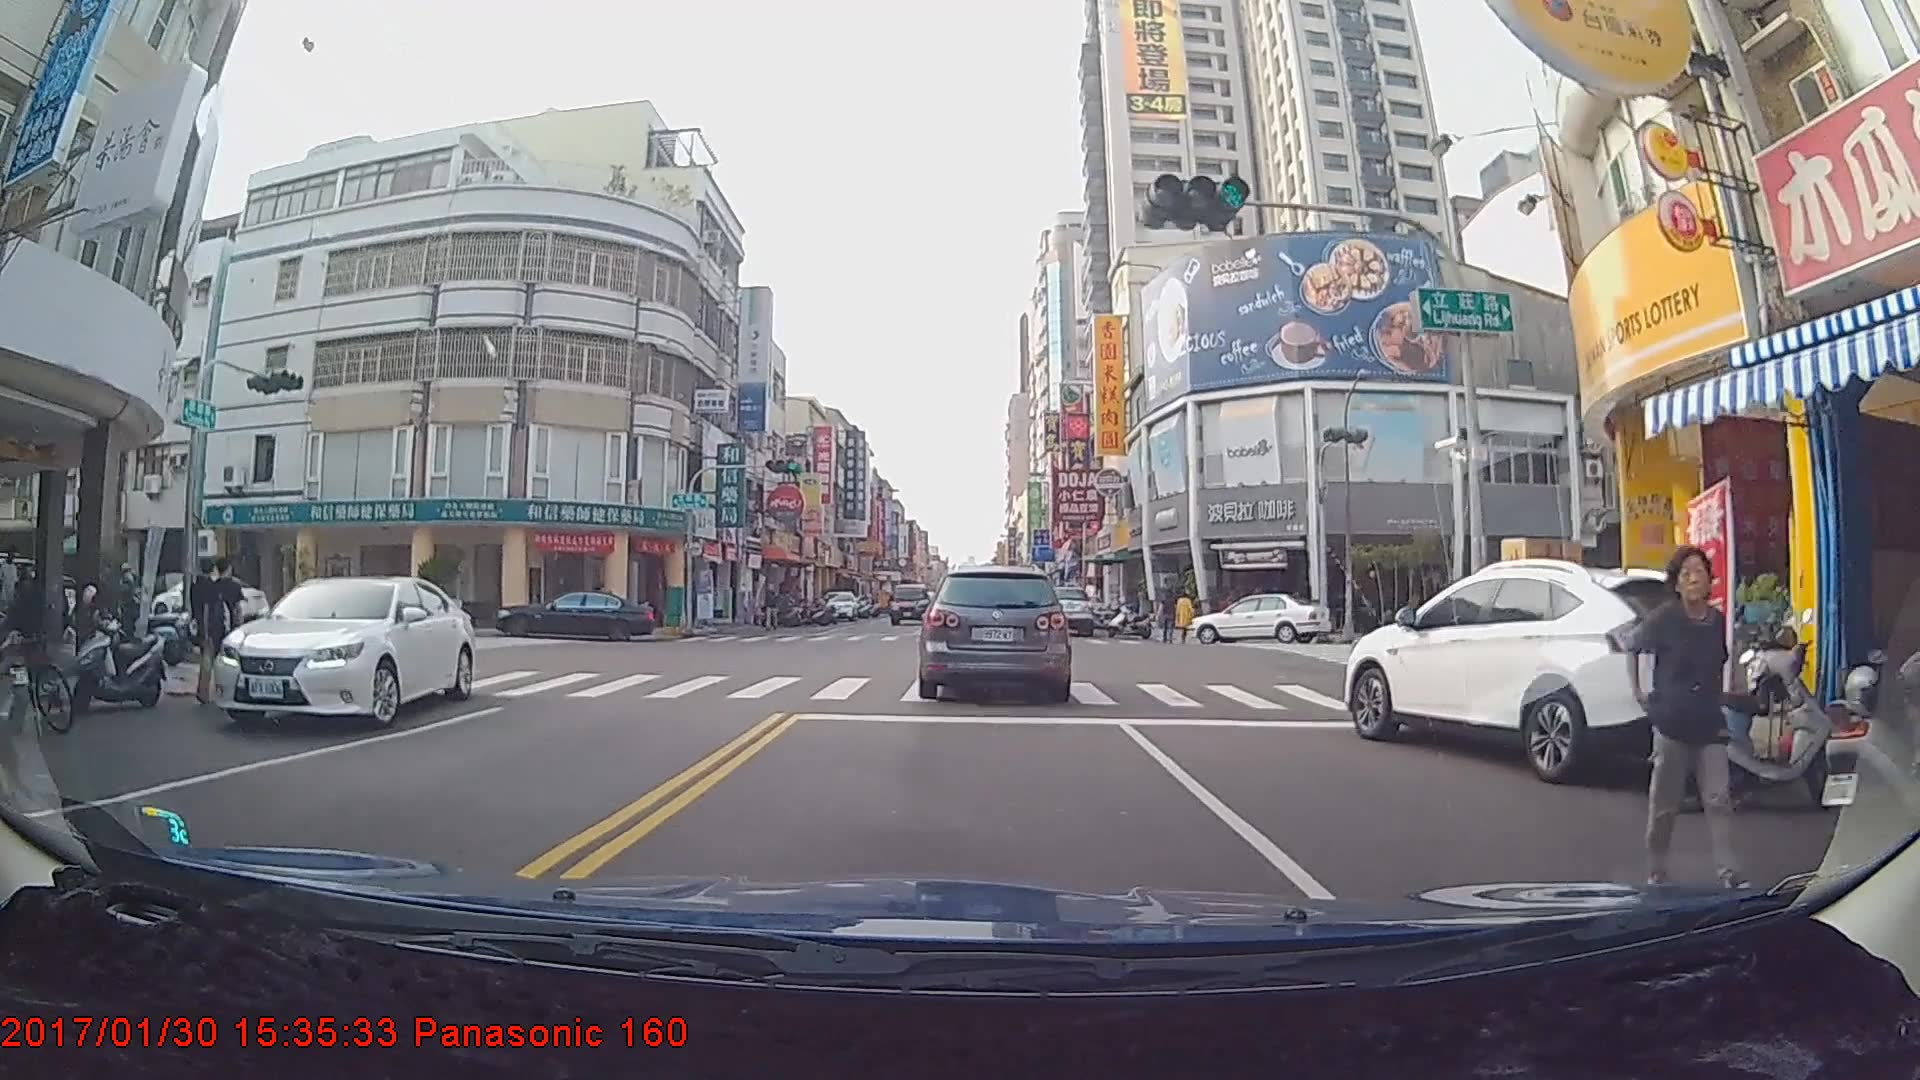pedestrian: (1629, 546, 1749, 893), (197, 556, 250, 706), (189, 560, 222, 700), (1175, 588, 1198, 646), (1159, 589, 1180, 646), (762, 583, 782, 632)
vehicle: (1343, 556, 1751, 789), (198, 573, 468, 731), (918, 564, 1070, 700), (493, 588, 655, 643), (1186, 590, 1330, 644), (1032, 583, 1094, 637), (888, 581, 930, 625), (816, 590, 859, 623)
